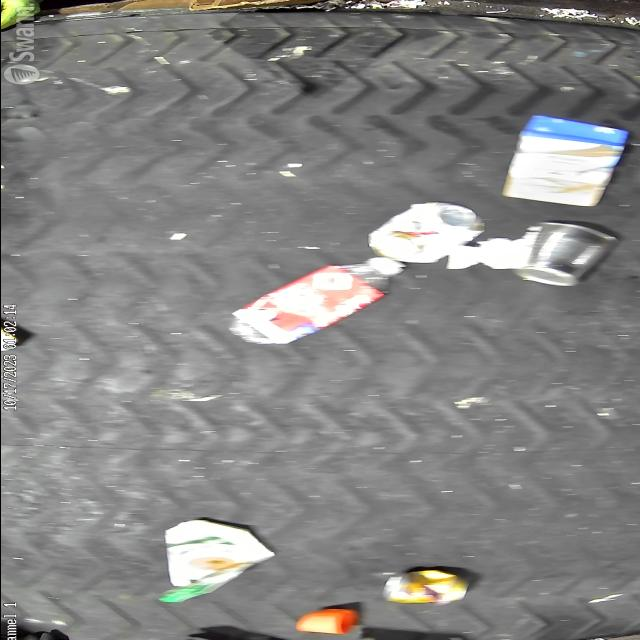can: (367, 202, 485, 264), (514, 222, 616, 286), (379, 569, 472, 607)
plastic_bottle: (228, 258, 404, 344)
